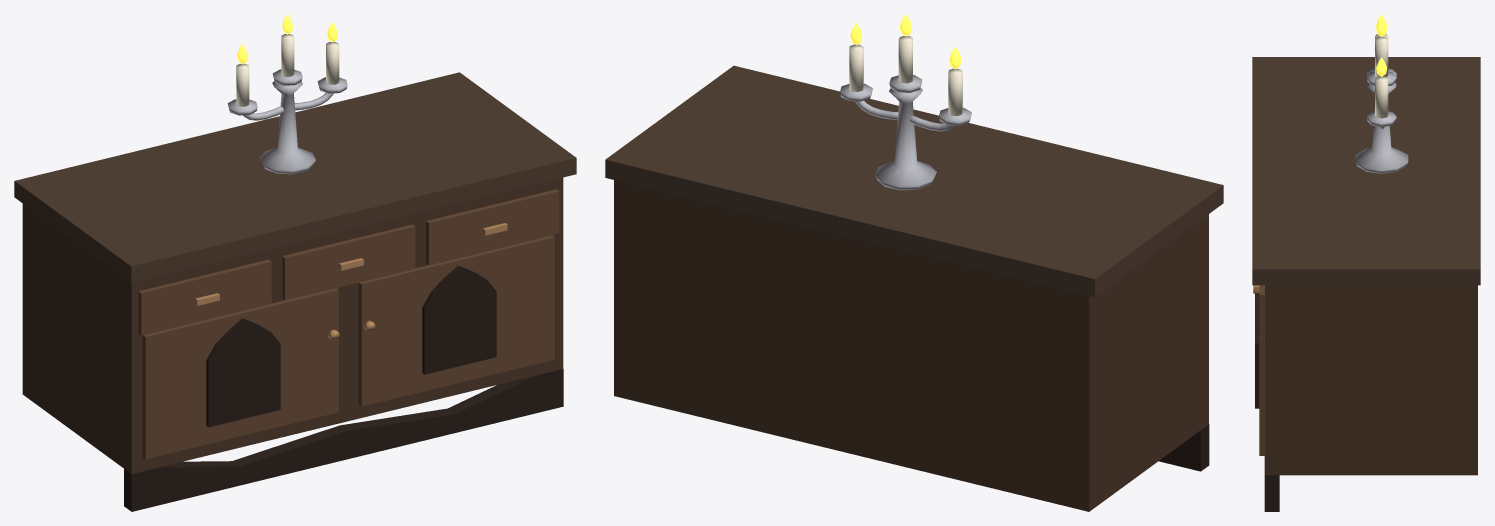
File: sideboard.glb
3 renders of one model, left to right at view 1: azimuth 30°, elevation 25°; view 2: azimuth 150°, elevation 25°; view 3: azimuth 270°, elevation 25°, orthographic. The views are drawn at different scales.
Visible parts, largest first — view 1: sideboard; view 2: sideboard; view 3: sideboard.
Part boxes in pixels (left/top/right/bottom): sideboard: left=14, top=14, right=576, bottom=511; sideboard: left=605, top=14, right=1223, bottom=511; sideboard: left=1252, top=14, right=1480, bottom=511.
Bounding box in the file's own units: 0.99 × 0.853 × 0.45.
